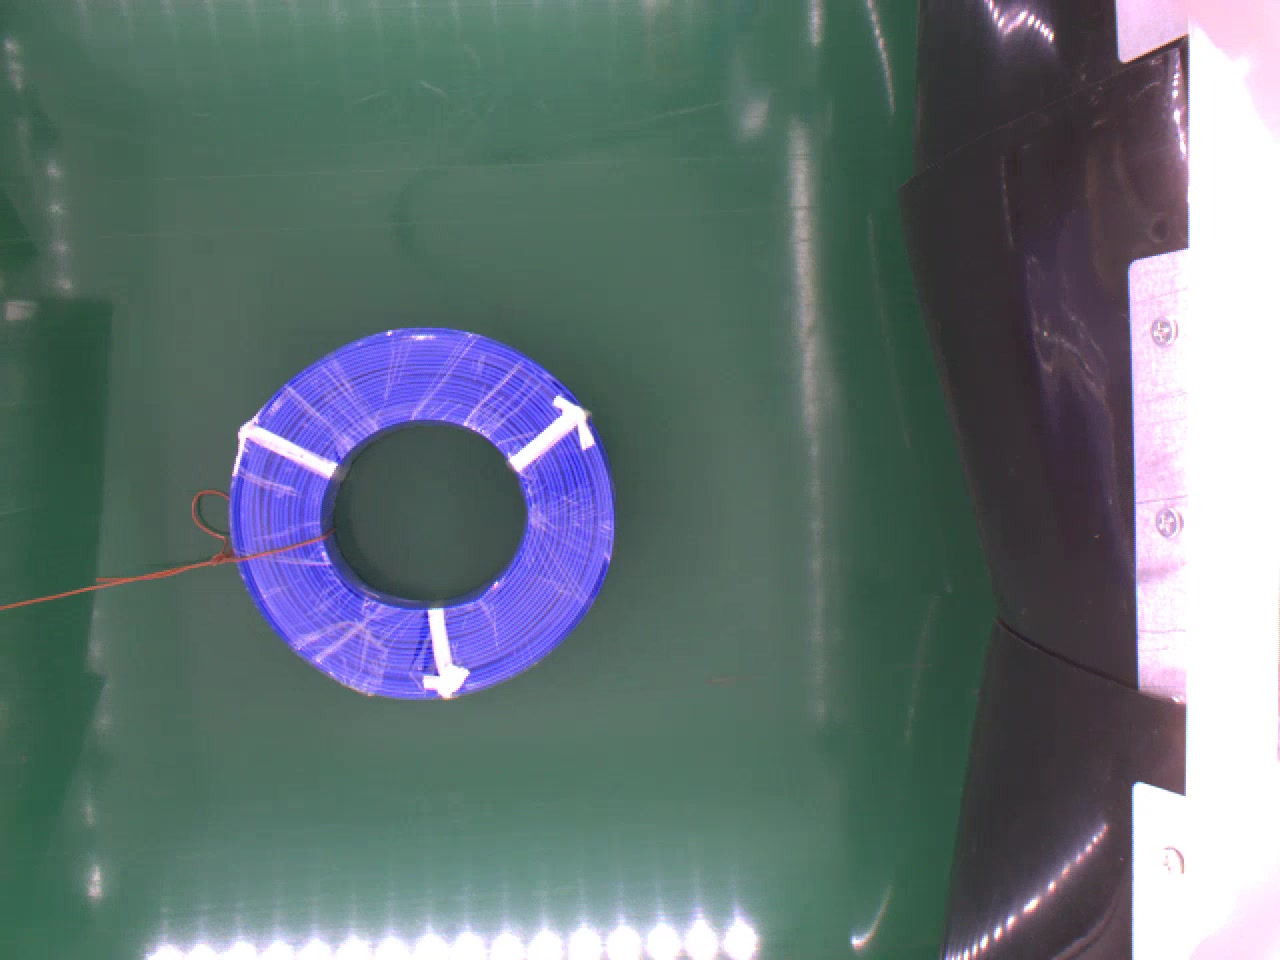blue: (221, 322, 621, 708)
